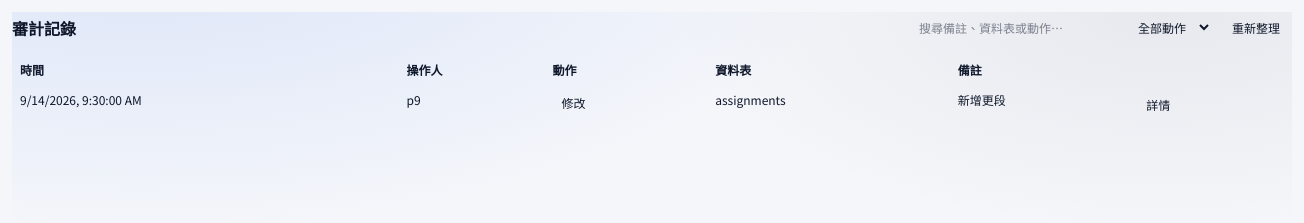
Test: Audit (Task 10 contract) › expands old/new jsonb diff when 詳情 clicked
Check: the text "assignments" is shown, box [707, 85, 950, 125]
Click the button "詳情" at x=1158, y=105, box [1137, 91, 1179, 119]
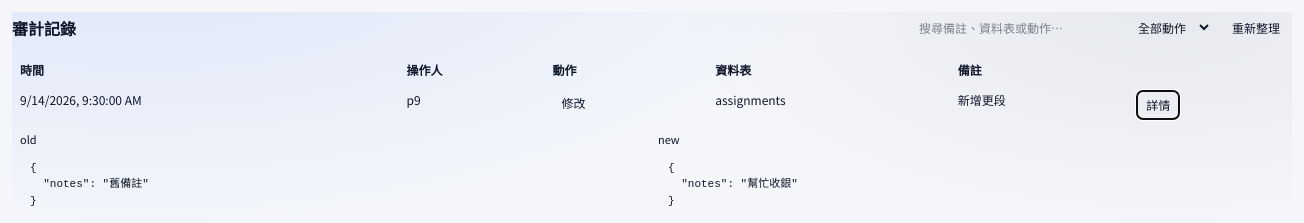
Check: the cell with test id "audit-diff-log-1" shows "old", box [20, 131, 37, 147]
Check: the cell with test id "audit-diff-log-1" shows "new", box [658, 131, 680, 147]
Check: the cell with test id "audit-diff-log-1" shows "舊備註", box [30, 162, 149, 206]
